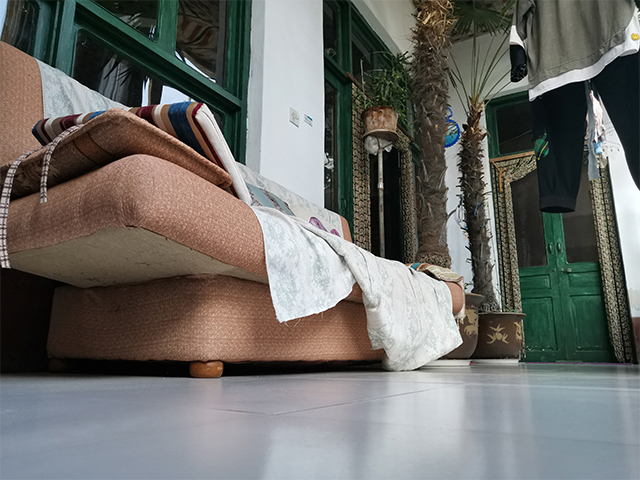sofa: (1, 37, 467, 382)
